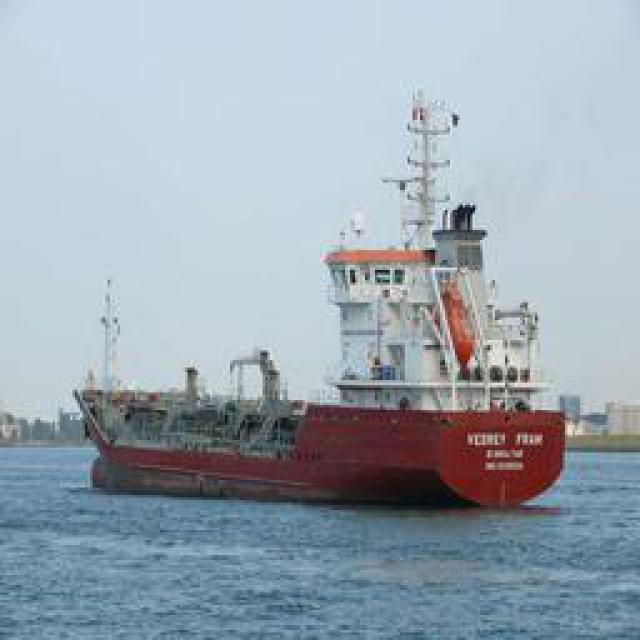Ship: (96, 79, 569, 512)
